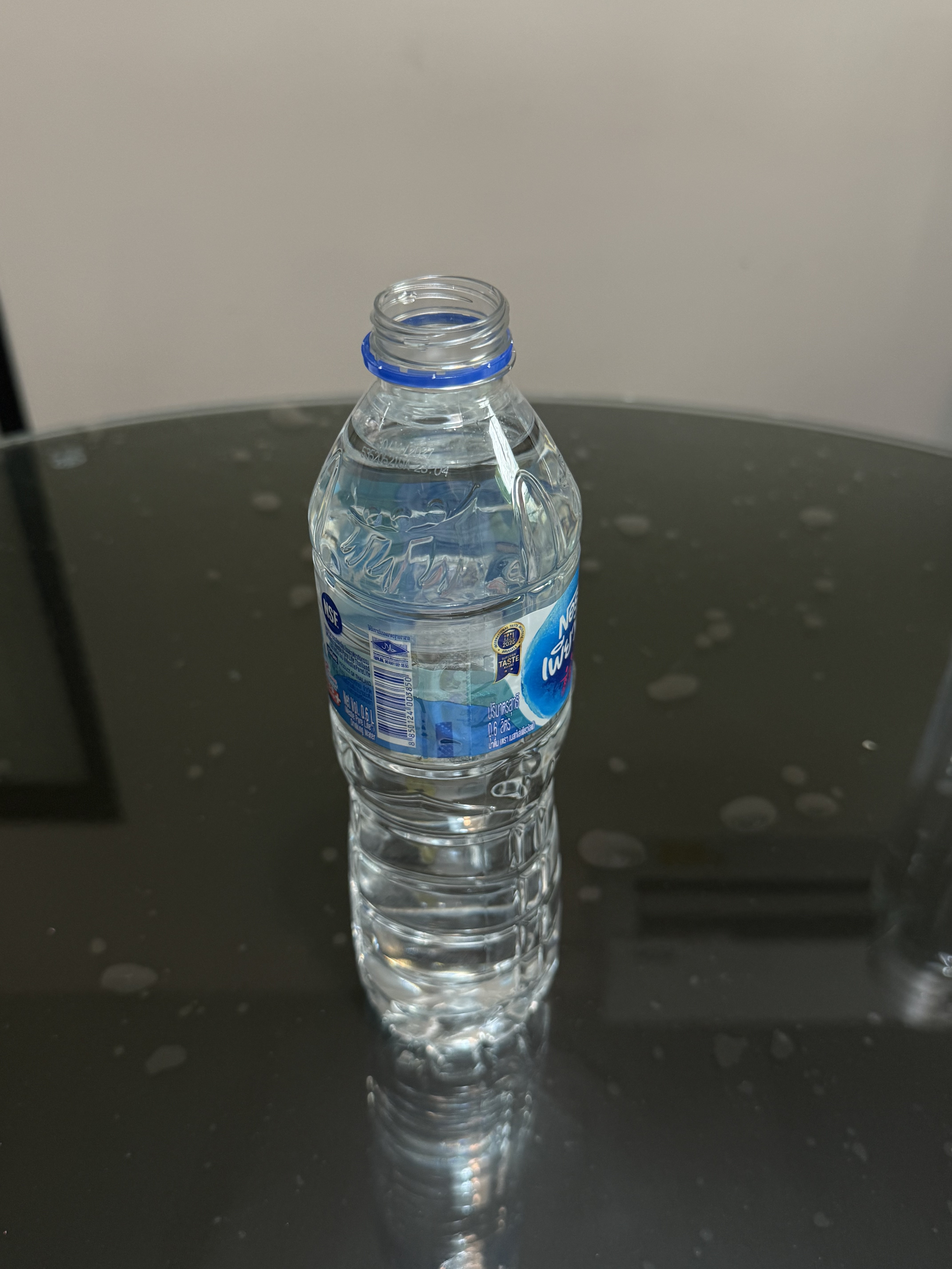no_cap: (356, 271, 521, 391)
